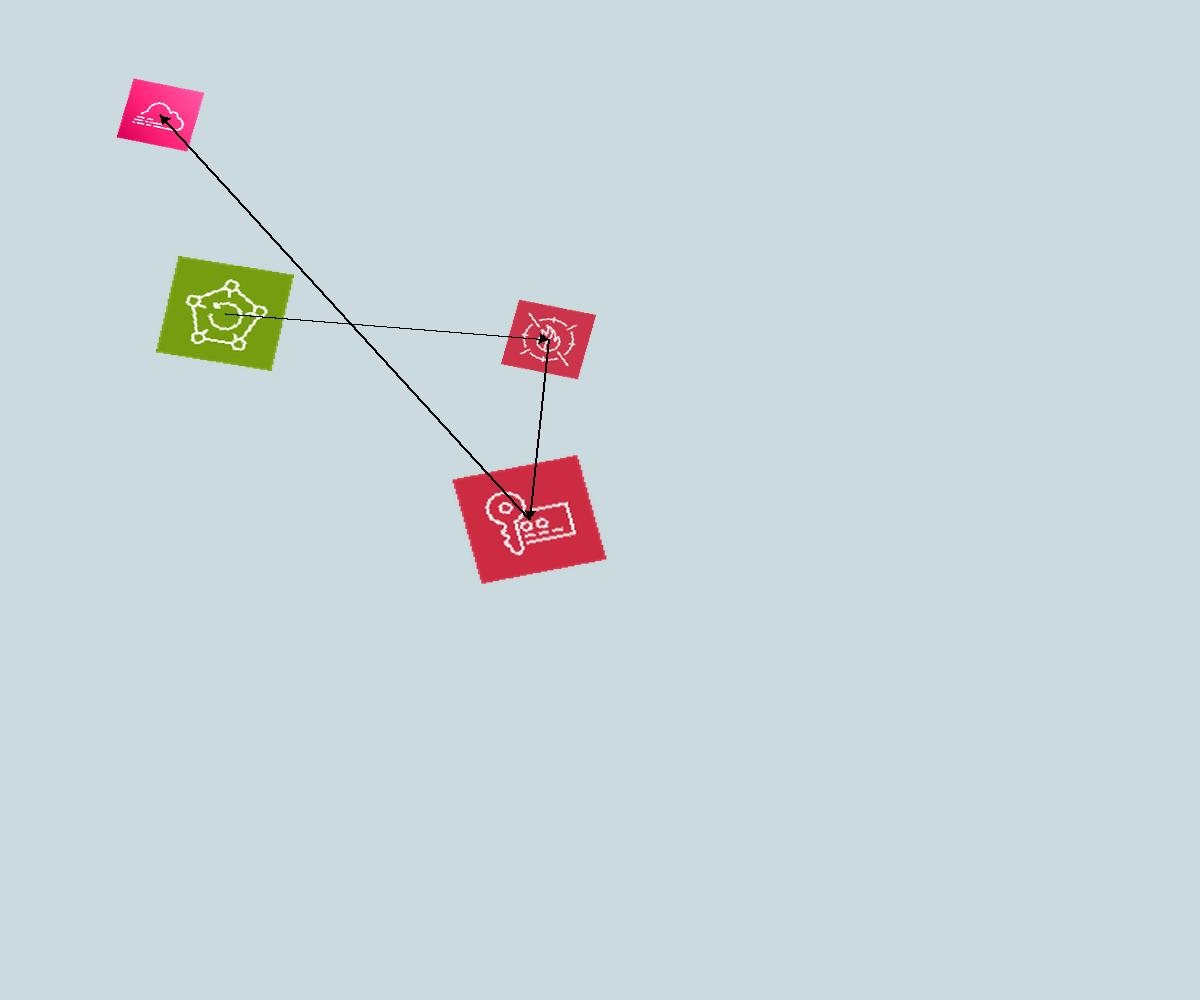AWS-Backup: (156, 256, 294, 371)
AWS-CloudTrail: (116, 78, 205, 152)
AWS-Key-Management-Service: (451, 454, 608, 585)
AWS-WAF: (500, 299, 597, 380)
